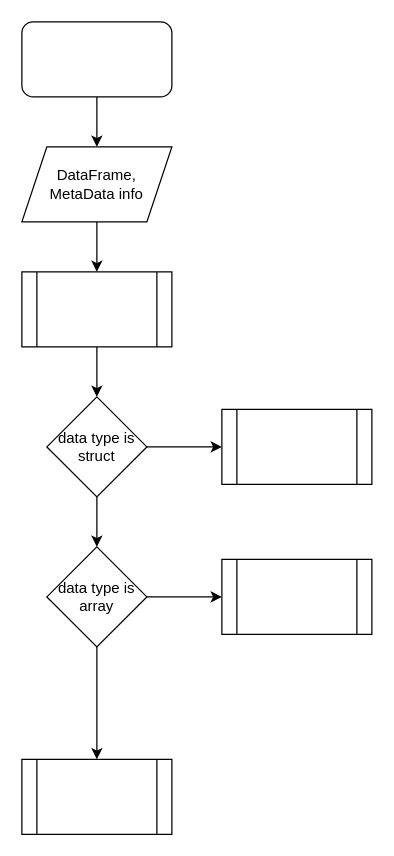
Image size: 394x856. Some labels were removed from this diagram. Here are the shapes that lost their labels. From the top down, the centre of each, then its label:
pixel 96 59: Start
pixel 96 309: split metadata info on '\\.' and loop through each field
